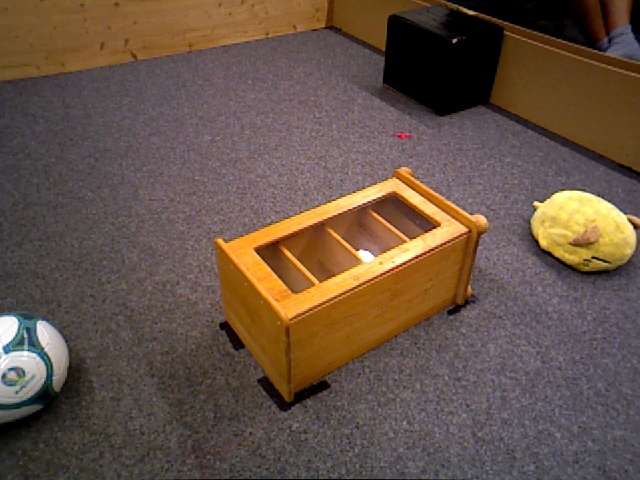grasp: (531, 190, 637, 274)
kick: (1, 313, 69, 427)
push: (384, 11, 503, 116)
